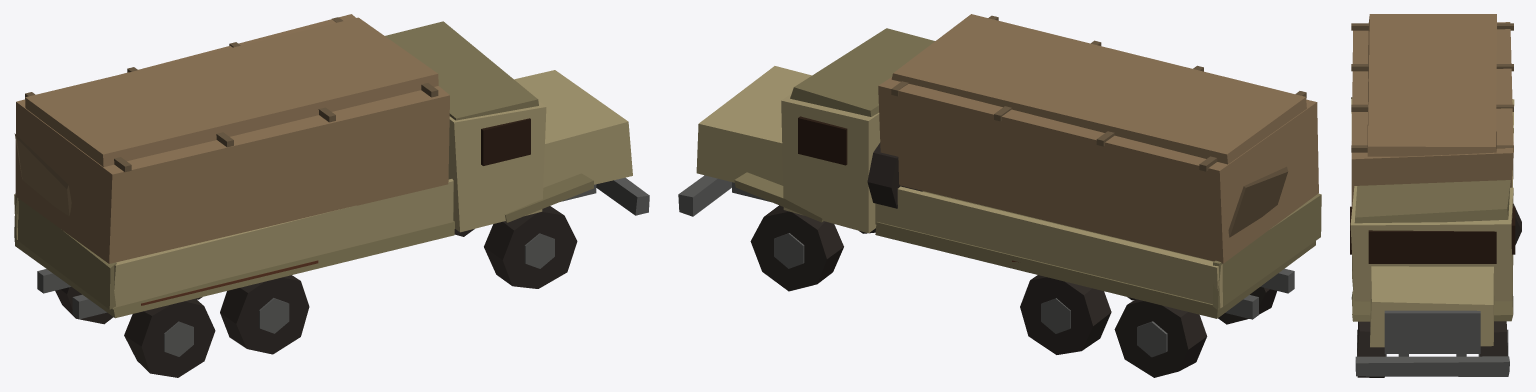
Rendered from army_truck.glb.
3 renders of one model, left to right at view 1: azimuth 30°, elevation 25°; view 2: azimuth 150°, elevation 25°; view 3: azimuth 270°, elevation 25°, orthographic. The views are drawn at different scales.
Parts seen in each view (by area): view 1: army_truck; view 2: army_truck; view 3: army_truck.
Boxes of the visible parts, x1,y1,x2,y2 form: army_truck: (14,14,649,377); army_truck: (678,14,1321,377); army_truck: (1350,14,1521,377).
Size of the model in its own units: 8.1 by 3.32 by 2.68.
